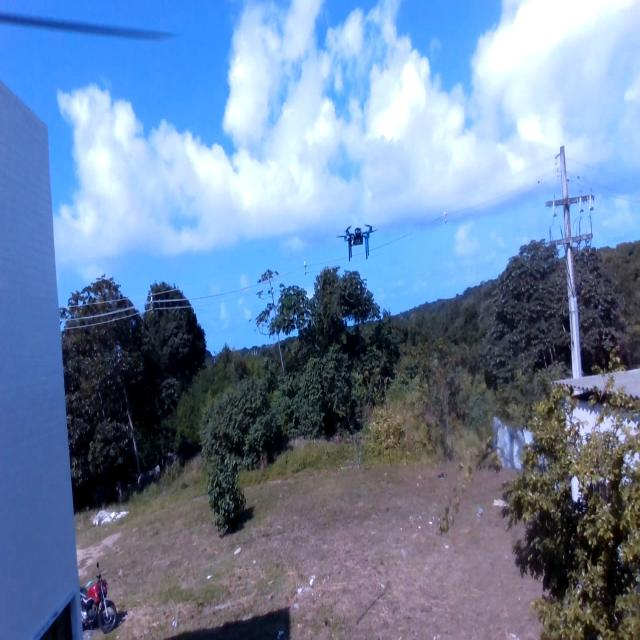-uav-: (334, 209, 385, 275)
